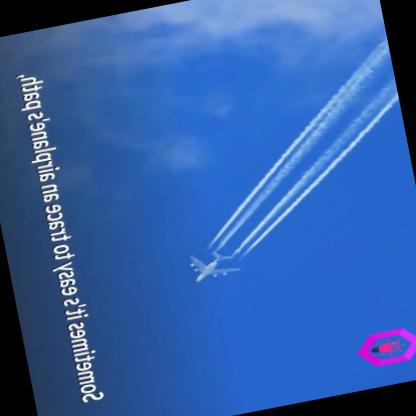plane: (175, 240, 246, 293)
